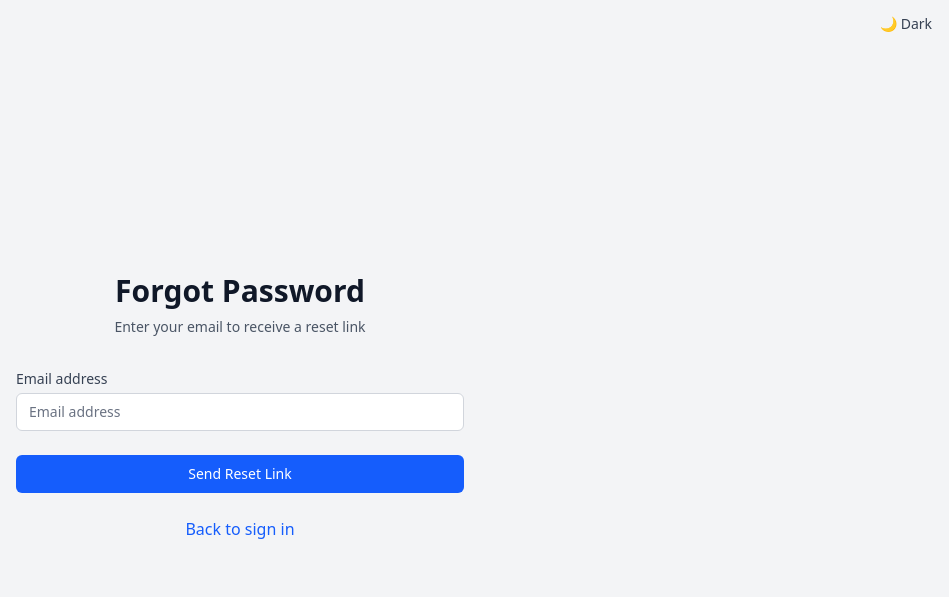
Test: Auth pages › shows forgot-password API error when request fails
The image size is (949, 597).
Type "user@example.com" into the field with placeholder "Email address". click: x=240, y=412
box: [16,393,464,431]
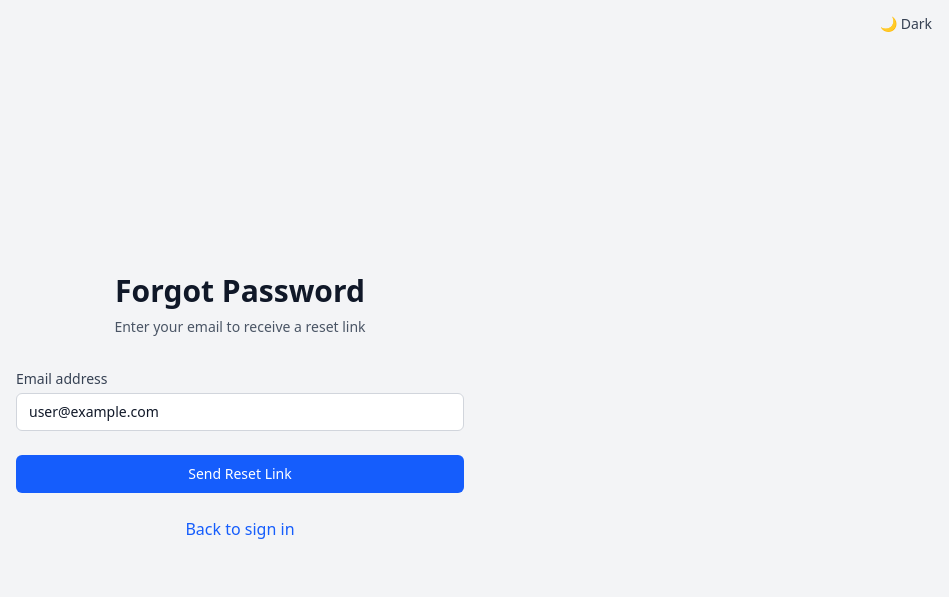
Click the button "Send Reset Link". click: x=240, y=474
box: [16,455,464,493]
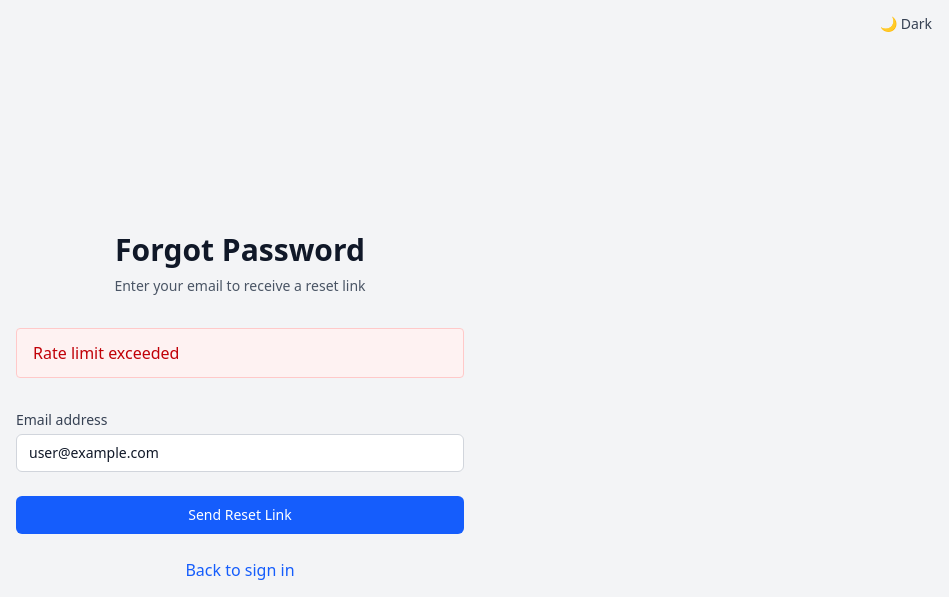
Now the text "Rate limit exceeded" is shown, box [16,328,464,378]
